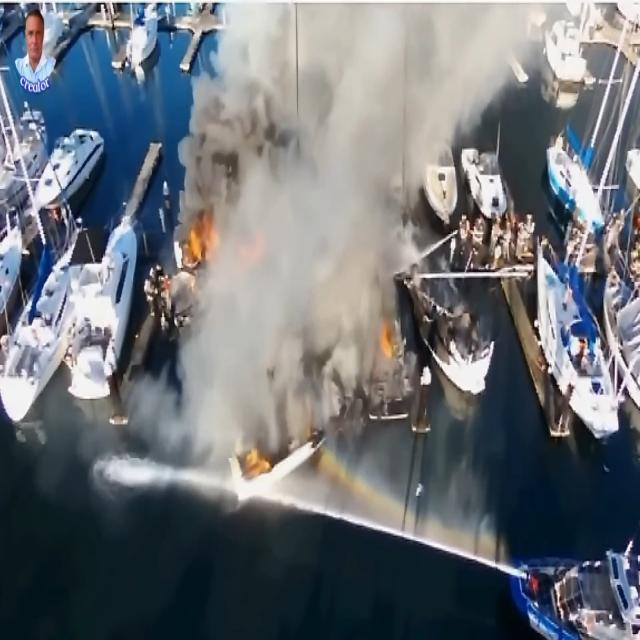Smoke: (202, 0, 398, 166), (184, 97, 289, 208)
